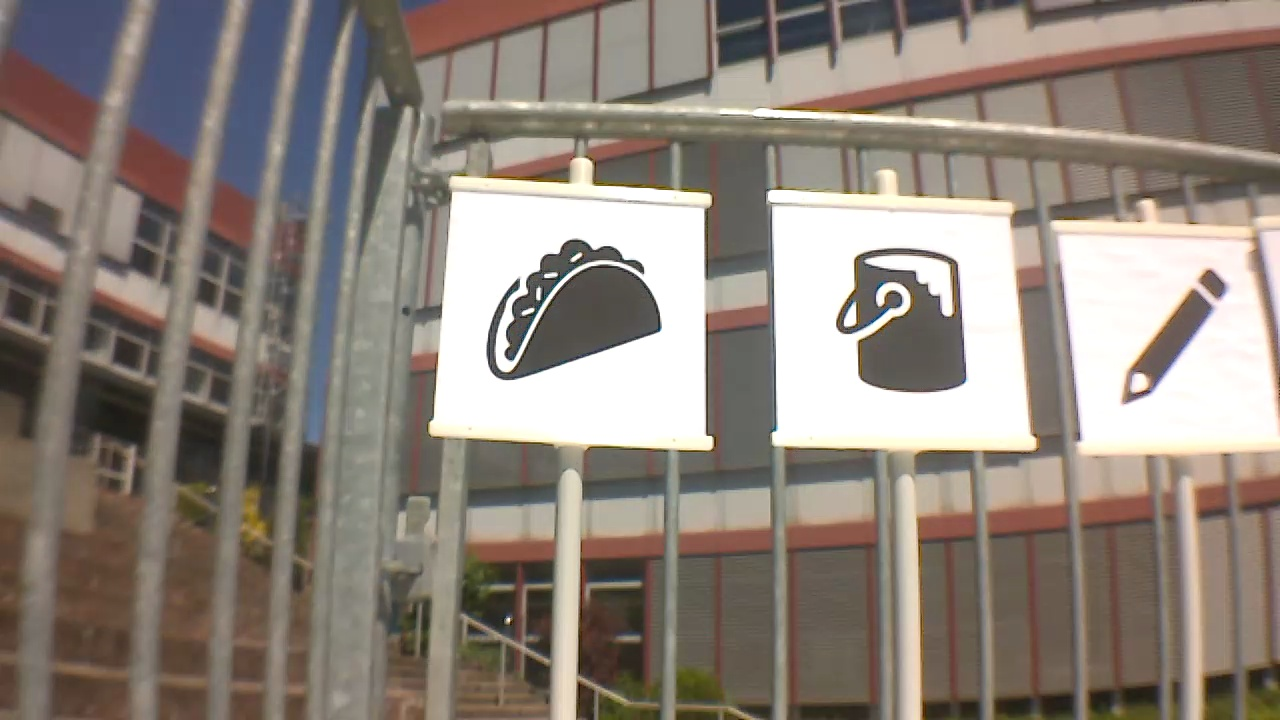bucket: (839, 240, 973, 395)
pencil: (1115, 258, 1232, 410)
taco: (483, 232, 667, 380)
